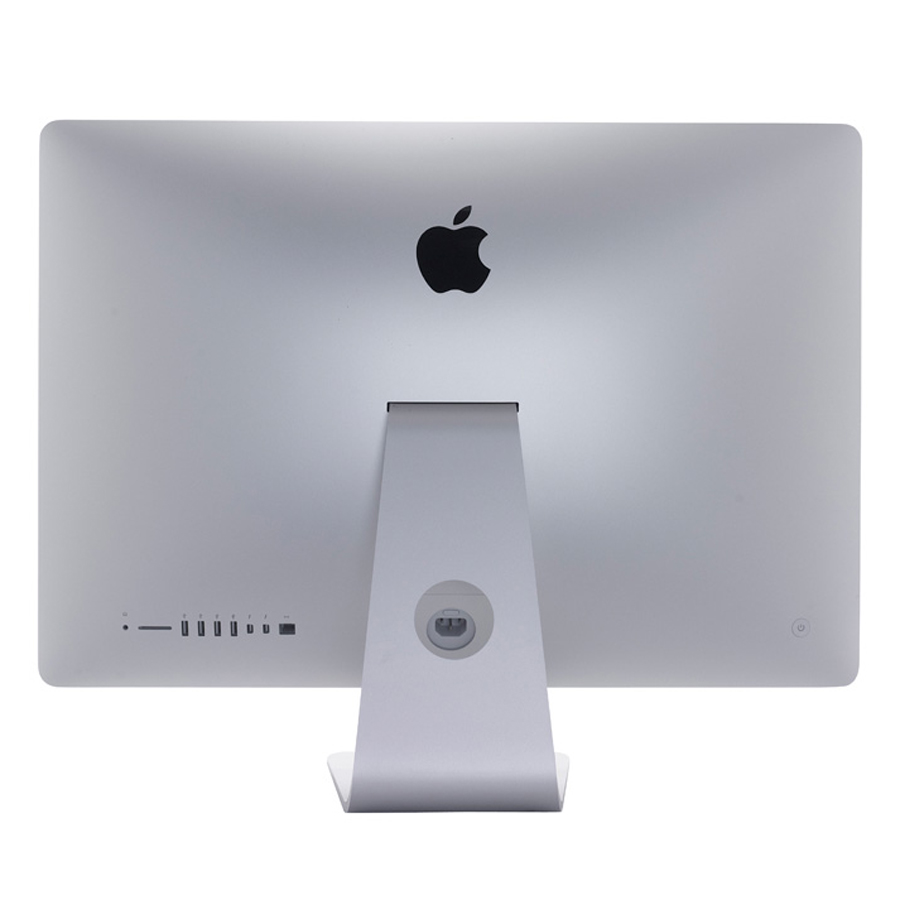Apple: (323, 163, 676, 304)
